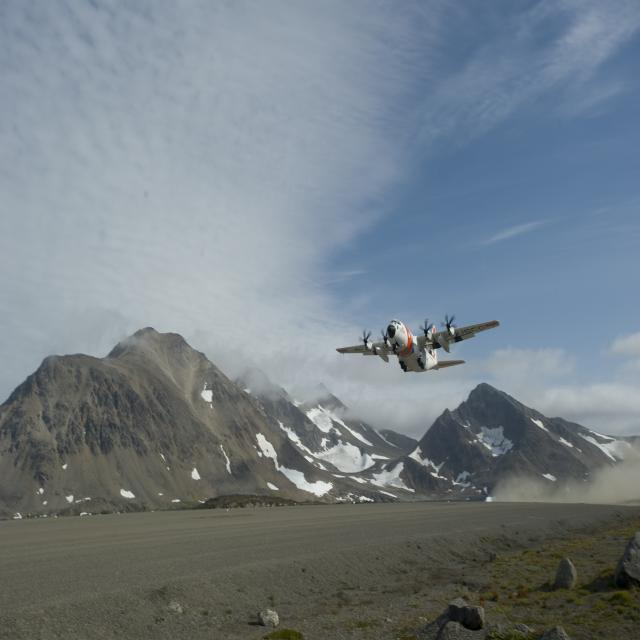MIL_Plane: (17, 313, 178, 372)
